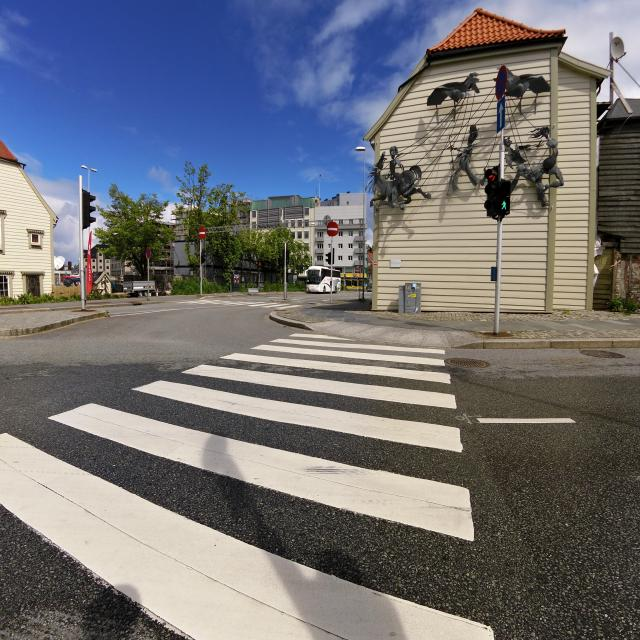Good: (576, 346, 628, 366), (441, 355, 490, 371)
